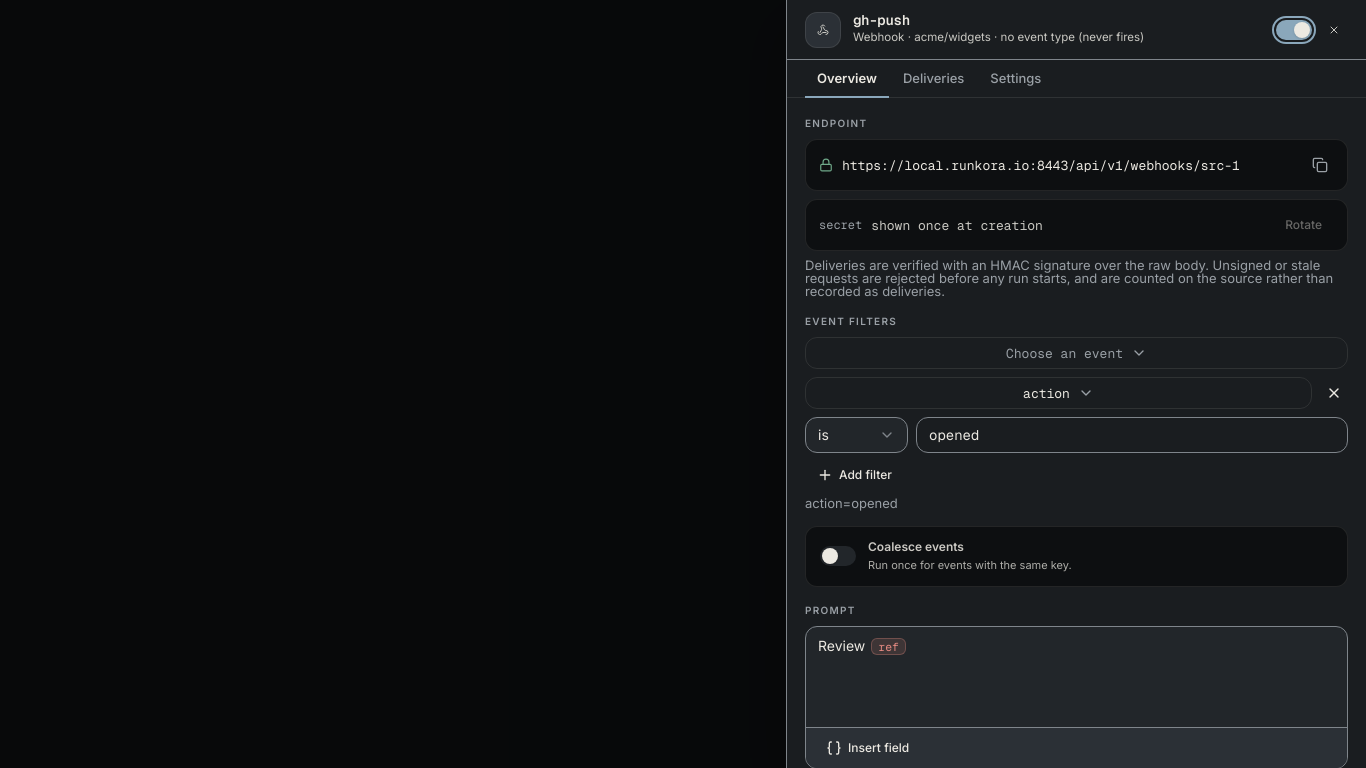
Test case: a generic webhook source › does not ask a schema source for an event type the picker sets
Replace the text in the field named "Filter 1 values" with "closed" at (1132, 435), box [916,417,1348,453]
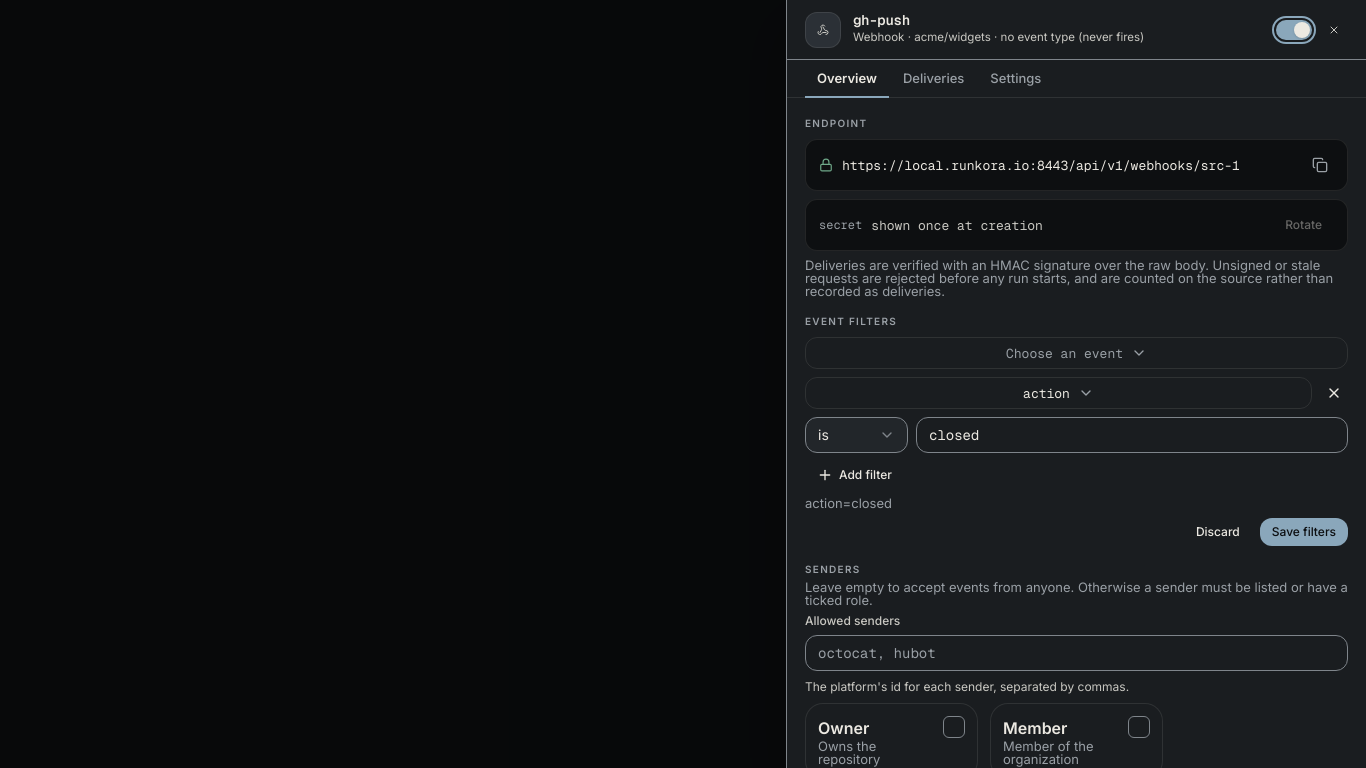
Expected: the button "Save filters" is enabled, [1260,518,1348,546]
